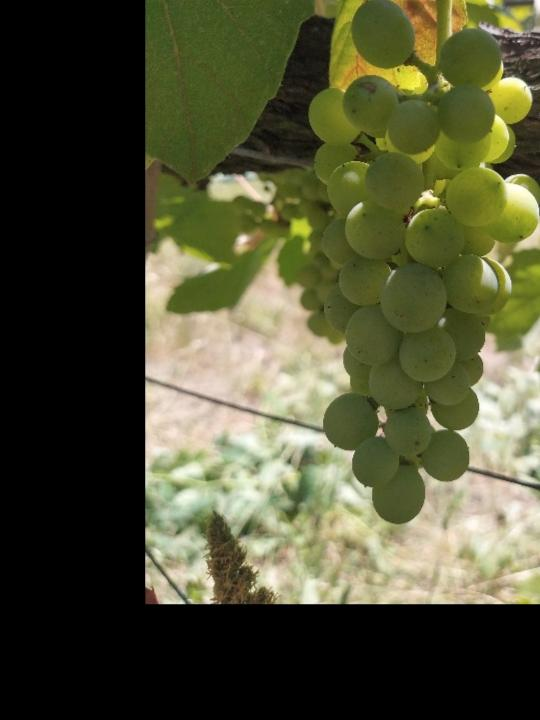grape: (308, 0, 540, 526)
